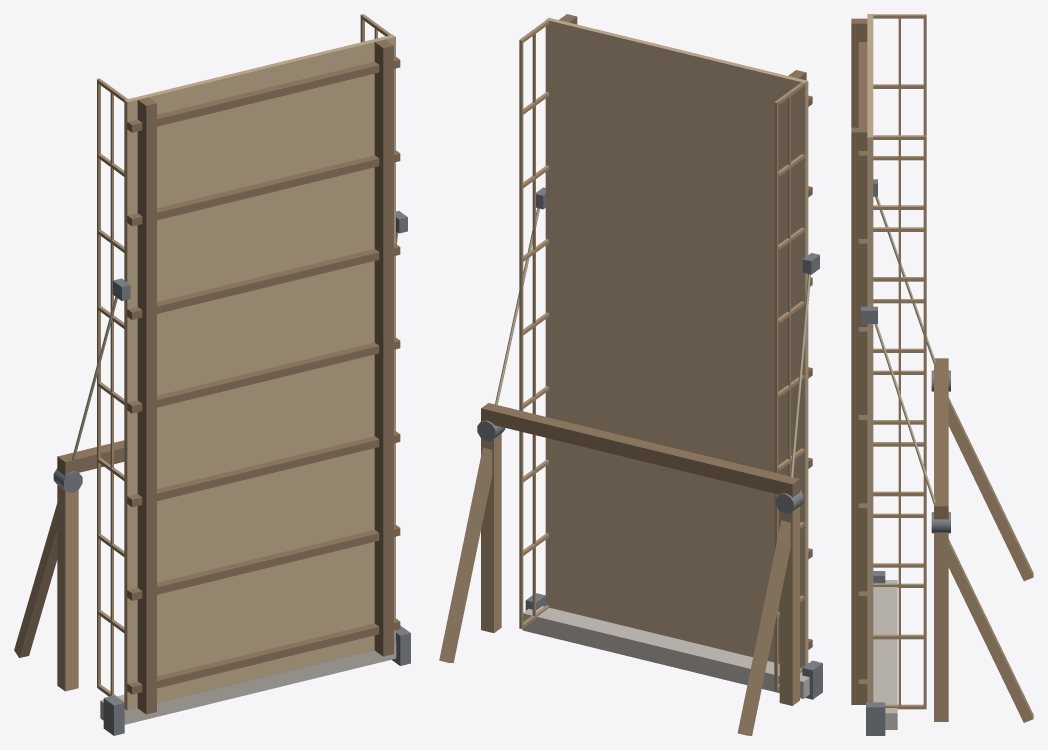
The model's file is bascule_timber_road.glb.
3 views of the same model, side by side, from view 1: azimuth 30°, elevation 25°; view 2: azimuth 150°, elevation 25°; view 3: azimuth 270°, elevation 25° (orthographic). The views are drawn at different scales.
Parts seen in each view (by area): view 1: span, bridge; view 2: span, bridge, cable_l; view 3: span, bridge, cable_r, cable_l.
Part boxes in pixels (<box>): span: <box>97,14,407,714</box>; bridge: <box>14,440,410,735</box>; span: <box>519,14,819,691</box>; bridge: <box>439,403,822,735</box>; cable_l: <box>790,274,810,477</box>; span: <box>851,14,926,709</box>; bridge: <box>866,358,1033,735</box>; cable_r: <box>874,324,935,504</box>; cable_l: <box>875,196,935,363</box>.
Bounding box in the file's own units: 7.32 × 13.45 × 3.75.
